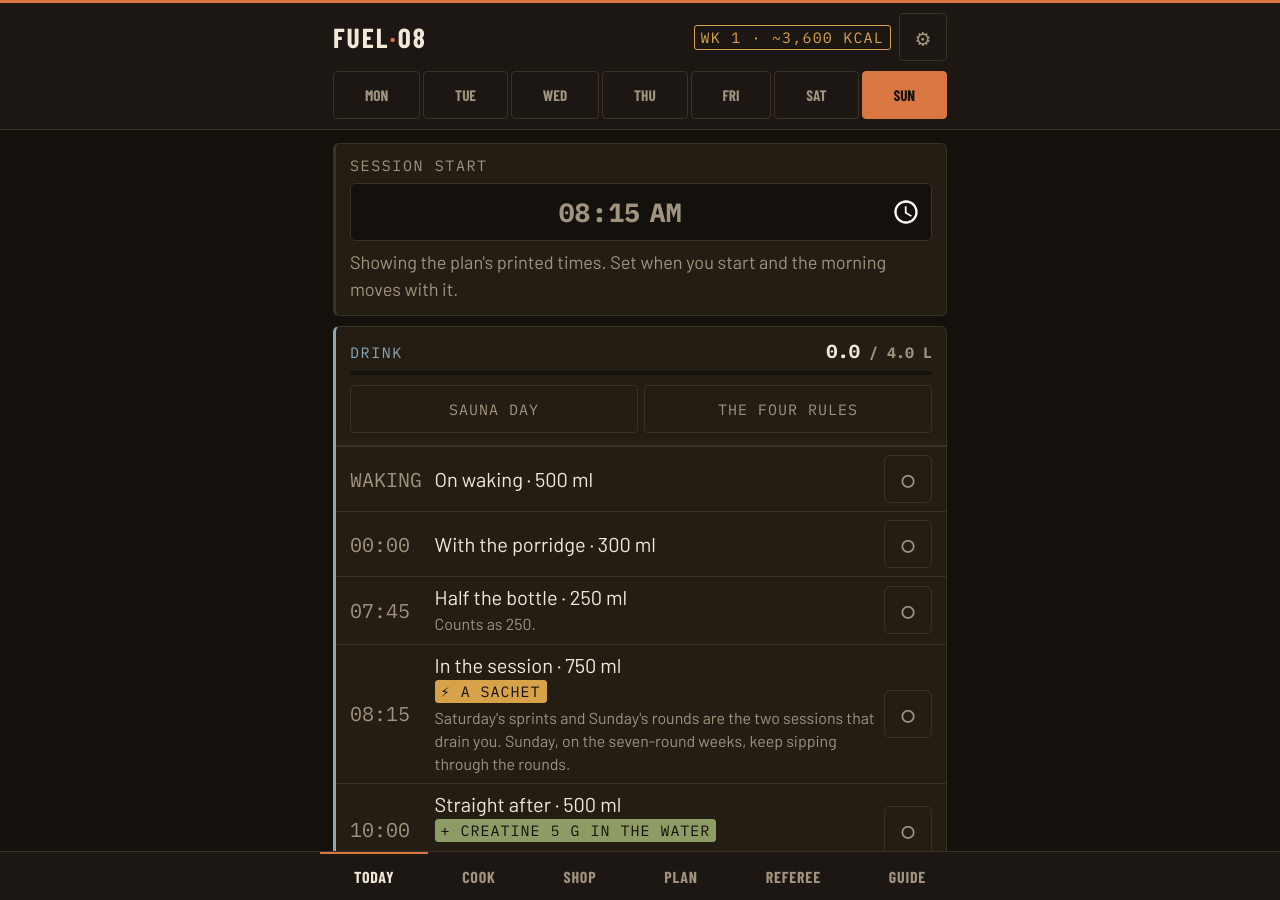
Scenario: Fuel · Optimal 8 Fighter › opens Wednesday on the 03:10 half bottle
What coordinates should you click on to do the following:
click the button "WED"
I would click on:
 (555, 95)
Its box is [511,71,599,119].
(page scrolled)
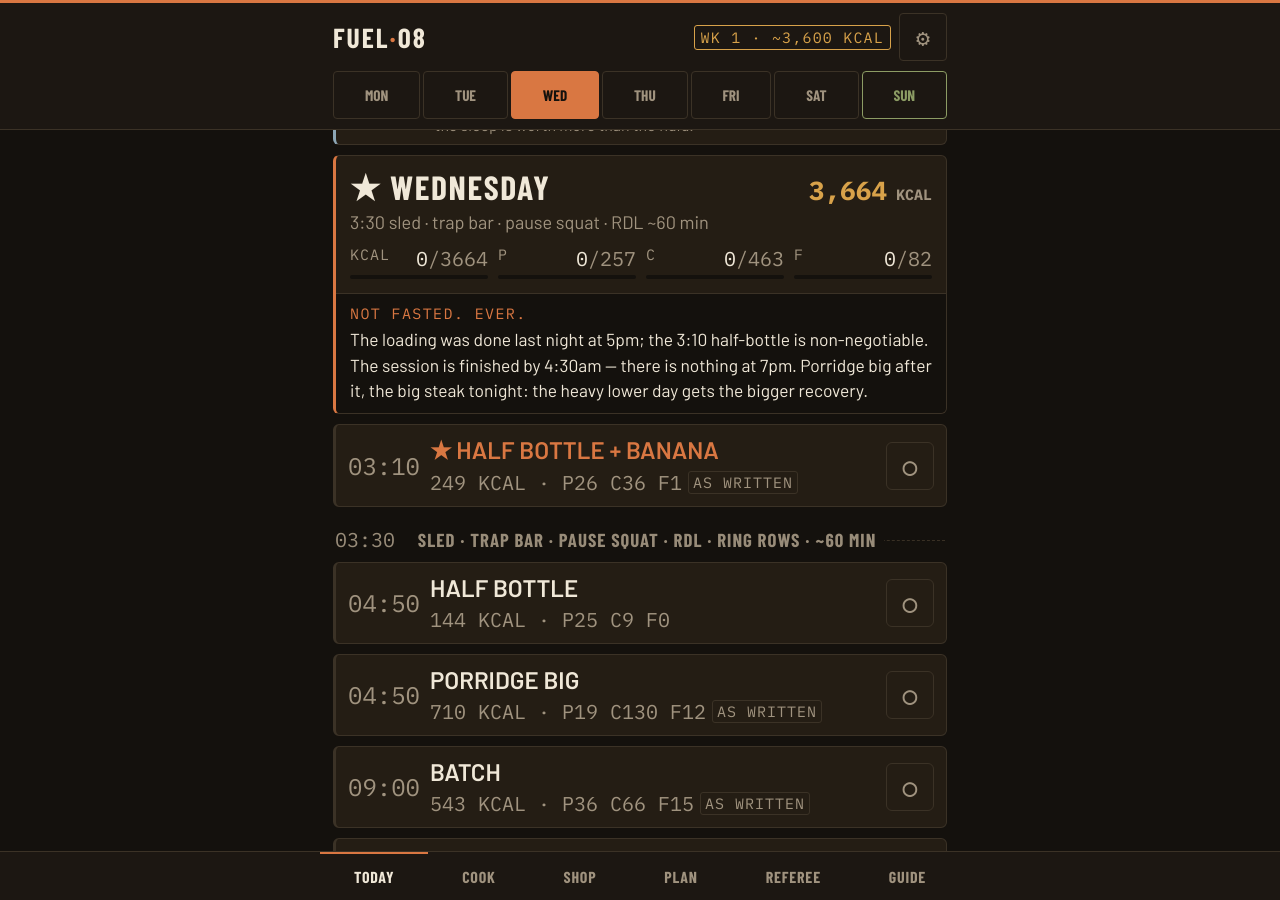
Expected: the text "★ WEDNESDAY" is shown, [350,170,550,204]
Expected: the text "03:10" is shown, [348,450,420,482]
Expected: the text "★ HALF BOTTLE + BANANA" is shown, [430,435,719,464]
